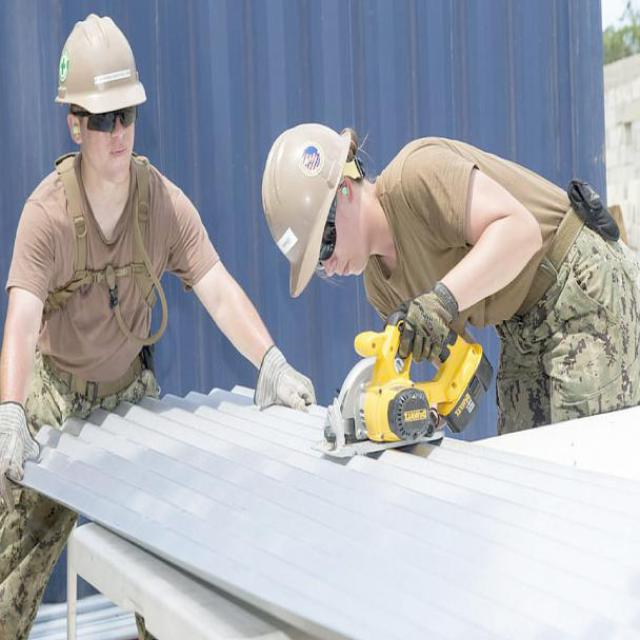gloves: (393, 272, 460, 372), (1, 391, 51, 518), (252, 344, 317, 432)
helmet: (265, 125, 372, 306), (61, 3, 150, 180)
